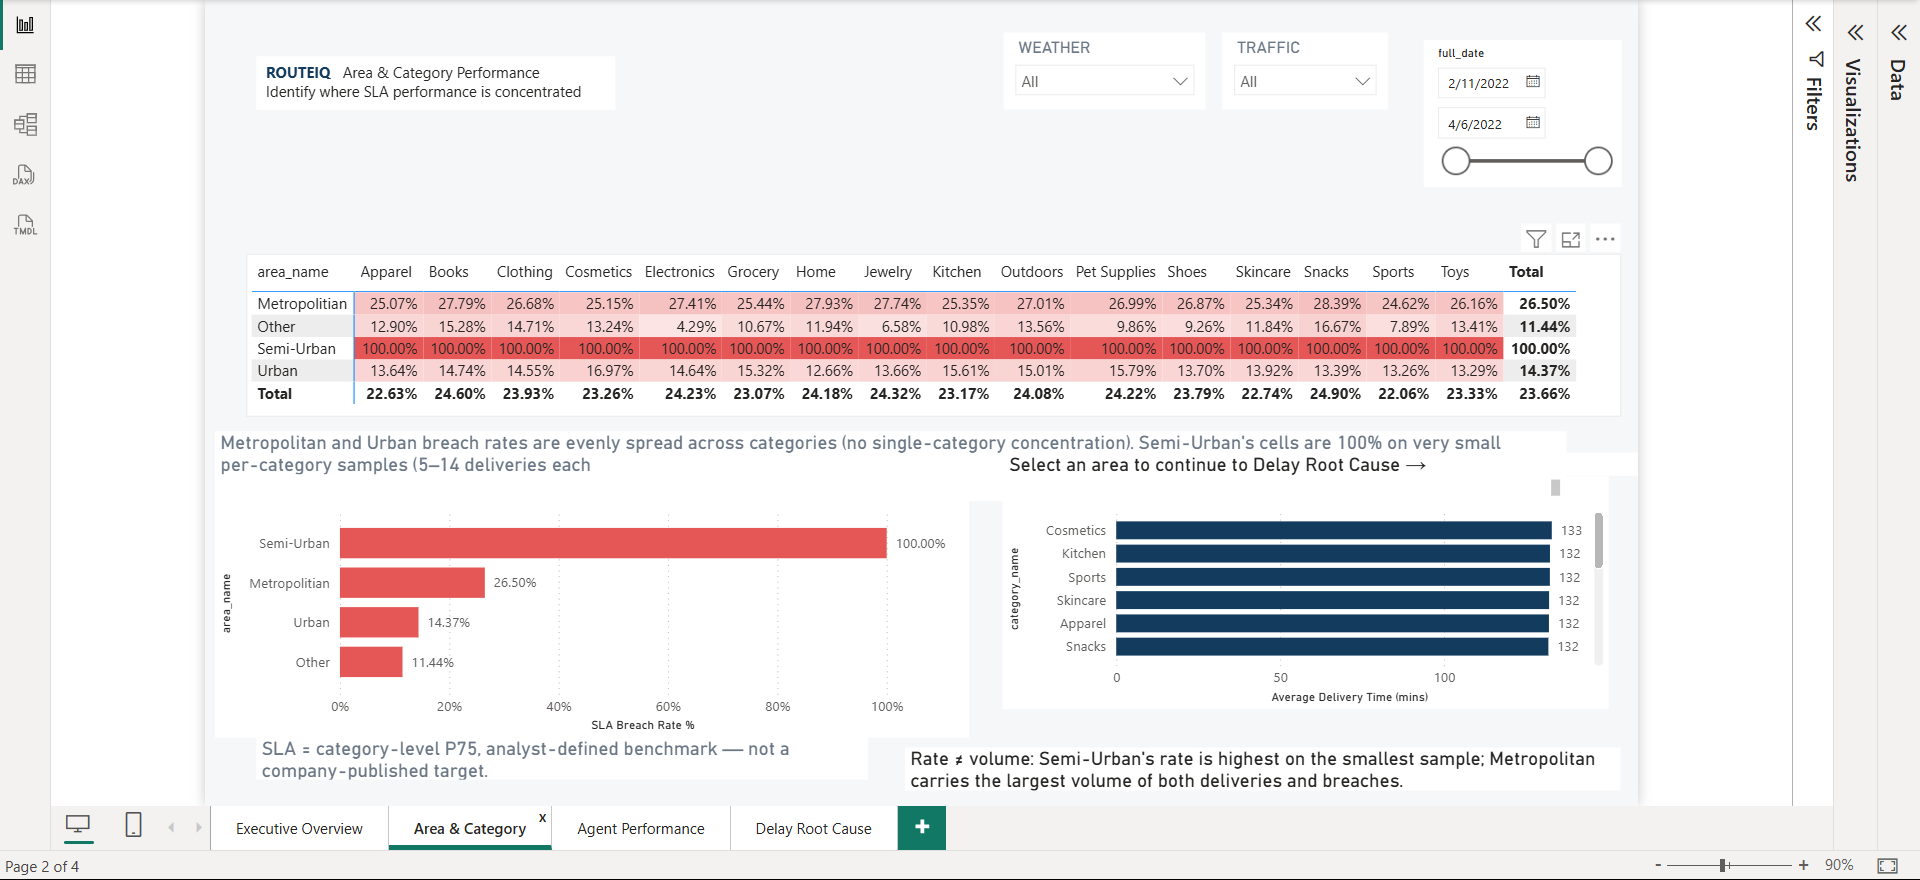

What the dashboard file says about the page in this screenshot:
{"tool":"powerbi","page":{"name":"Area & Category ","canvas":[1280,720],"ordinal":1},"visuals":[{"type":"textbox","box":[45.3,50,320.9,47.7],"z":0},{"type":"slicer","fields":{"Values":["DimWeatherTraffic.weather"]},"box":[714,29.1,180.2,68.6],"z":1000},{"type":"slicer","fields":{"Values":["DimWeatherTraffic.traffic"]},"box":[909.3,29.1,147.7,68.6],"z":2000},{"type":"slicer","fields":{"Values":["DimDate.full_date"]},"box":[1088.4,36,176.7,131.4],"z":3000},{"type":"pivotTable","fields":{"Columns":["DimCategory.category_name"],"Rows":["DimArea.area_name"],"Values":["FactDelivery.SLA Breach Rate %"]},"box":[37.2,226.7,1227.9,145.3],"z":4000},{"type":"clusteredBarChart","title":"WORST → BEST AREA BY SLA BREACH RATE","fields":{"Category":["DimArea.area_name"],"Y":["FactDelivery.SLA Breach Rate %"]},"box":[9.3,425.6,673.3,233.7],"z":5000},{"type":"clusteredBarChart","title":"CATEGORY BY AVERAGE DELIVERY TIME","fields":{"Category":["DimCategory.category_name"],"Y":["FactDelivery.Average Delivery Time (mins)"]},"box":[712.8,425.6,541.9,208.1],"z":6000},{"type":"textbox","title":"Metropolitan and Urban breach rates are evenly spread across categories (no single-category concentration). Semi-Urban''s cells are 100% on very small per-category samples (5–14 deliveries each","box":[9.3,384.9,1207,62.8],"z":7000},{"type":"textbox","title":"Rate ≠ volume: Semi-Urban''s rate is highest on the smallest sample; Metropolitan carries the largest volume of both deliveries and breaches.","box":[625.6,667.4,639.5,38.4],"z":8000},{"type":"textbox","title":"Select an area to continue to Delay Root Cause →","box":[714,404.7,566.3,20.9],"z":9000},{"type":"textbox","title":" SLA = category-level P75, analyst-defined benchmark — not a company-published target.","box":[45.3,659.3,546.5,37.2],"z":10000}]}

Visuals, with their boxes on the page's 1280x720 design canvas (x1, y1, x2, y2). These are canvas units, not pixel positions in the 1920x880 screenshot, which may show the page scaled, cropped or inside an application window:
textbox: 45, 50, 366, 98
slicer - DimWeatherTraffic.weather: 714, 29, 894, 98
slicer - DimWeatherTraffic.traffic: 909, 29, 1057, 98
slicer - DimDate.full_date: 1088, 36, 1265, 167
pivotTable - DimCategory.category_name x DimArea.area_name: 37, 227, 1265, 372
"WORST → BEST AREA BY SLA BREACH RATE" clusteredBarChart: 9, 426, 683, 659
"CATEGORY BY AVERAGE DELIVERY TIME" clusteredBarChart: 713, 426, 1255, 634
"Metropolitan and Urban breach rates are evenly spread across categories (no single-category concentration). Semi-Urban''s cells are 100% on very small per-category samples (5–14 deliveries each" textbox: 9, 385, 1216, 448
"Rate ≠ volume: Semi-Urban''s rate is highest on the smallest sample; Metropolitan carries the largest volume of both deliveries and breaches." textbox: 626, 667, 1265, 706
"Select an area to continue to Delay Root Cause →" textbox: 714, 405, 1280, 426
" SLA = category-level P75, analyst-defined benchmark — not a company-published target." textbox: 45, 659, 592, 696
